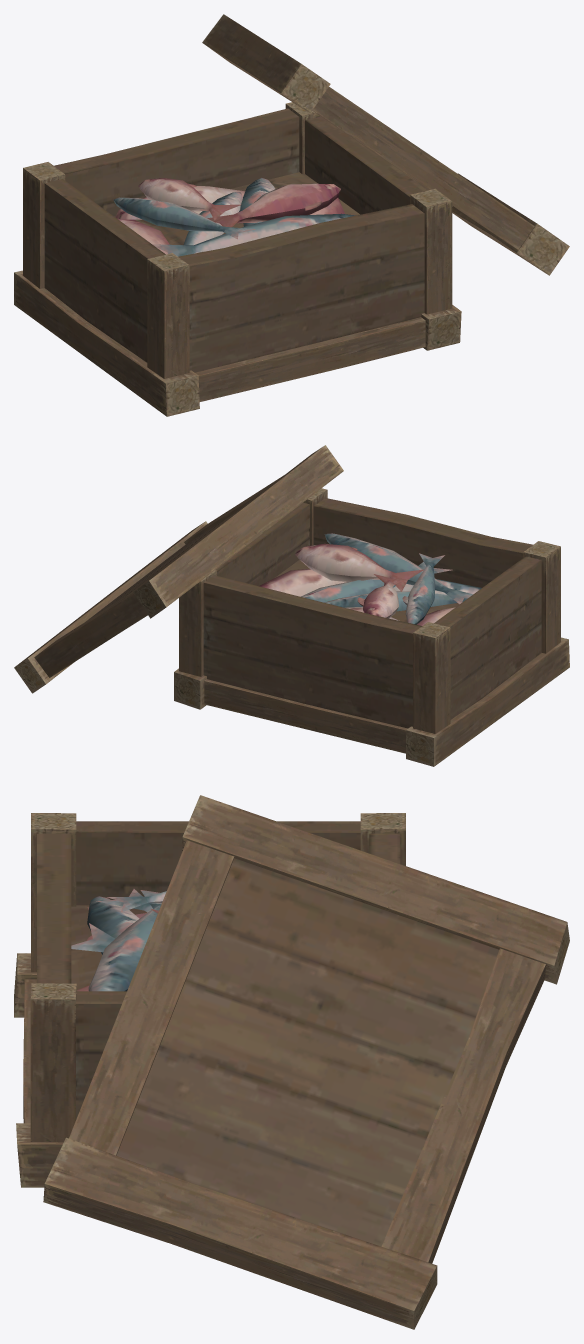
Rendered from Homeworld_Exterior_Xm_Decoration_Prop_FishBox_01_Lod0.fbx.
3 renders of one model, top to bottom at view 1: azimuth 30°, elevation 25°; view 2: azimuth 150°, elevation 25°; view 3: azimuth 270°, elevation 25°, orthographic. The views are drawn at different scales.
Visible parts, largest first — view 1: Homeworld_Exterior_Xm_Decoration_Prop_FishBox_01_Lod0; view 2: Homeworld_Exterior_Xm_Decoration_Prop_FishBox_01_Lod0; view 3: Homeworld_Exterior_Xm_Decoration_Prop_FishBox_01_Lod0.
Boxes of the visible parts, x1,y1,x2,y2 form: Homeworld_Exterior_Xm_Decoration_Prop_FishBox_01_Lod0: (14, 14, 569, 416); Homeworld_Exterior_Xm_Decoration_Prop_FishBox_01_Lod0: (14, 445, 569, 766); Homeworld_Exterior_Xm_Decoration_Prop_FishBox_01_Lod0: (14, 795, 569, 1329).
Size of the model in its own units: 1.86 by 1.06 by 1.43.
